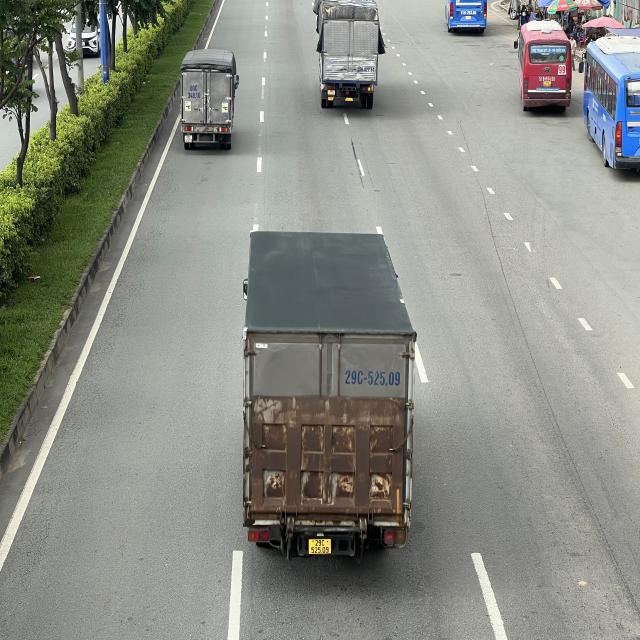coach: (582, 30, 638, 174), (517, 21, 572, 111), (446, 1, 488, 36)
truck: (238, 226, 425, 574), (316, 2, 381, 109), (178, 46, 240, 152)
